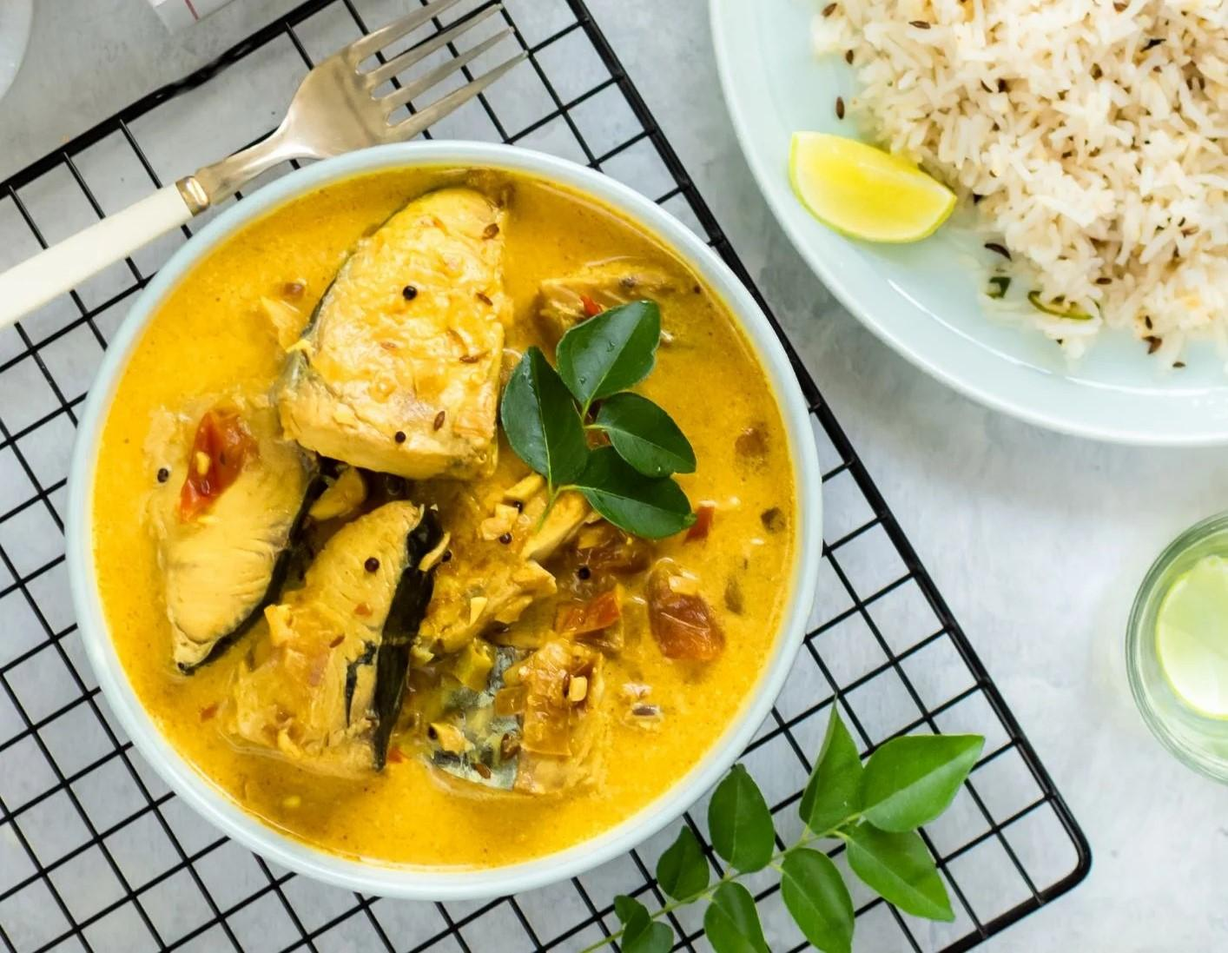FishCurry: (96, 177, 786, 864)
WhiteRice: (808, 0, 1228, 373)
